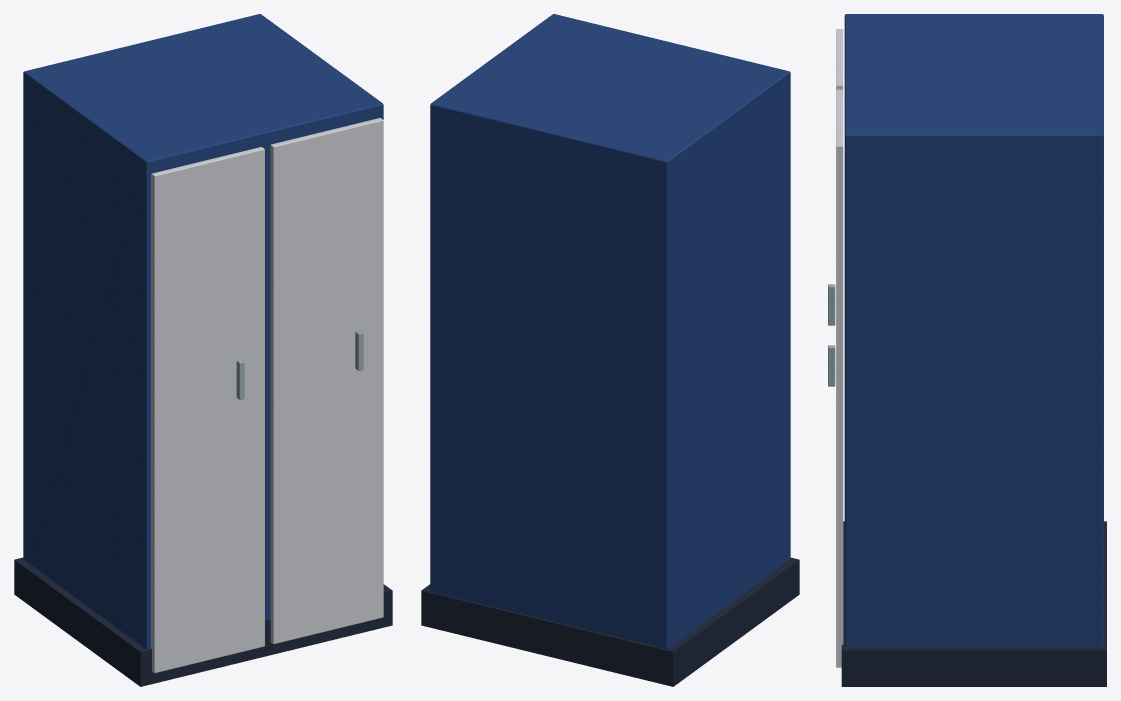
Rendered from factory-server.glb.
The picture shows the model from 3 angles, left to right: view 1: azimuth 30°, elevation 25°; view 2: azimuth 150°, elevation 25°; view 3: azimuth 270°, elevation 25°; orthographic projection. The views are drawn at different scales.
Parts seen in each view (by area): view 1: factory-server; view 2: factory-server; view 3: factory-server.
Boxes of the visible parts, left/top/right/bottom form: factory-server: left=14, top=14, right=392, bottom=686; factory-server: left=421, top=14, right=799, bottom=686; factory-server: left=828, top=14, right=1106, bottom=686.
Size of the model in its own units: 1.06 by 2.1 by 0.9675.
4 materials, 3 textured.
